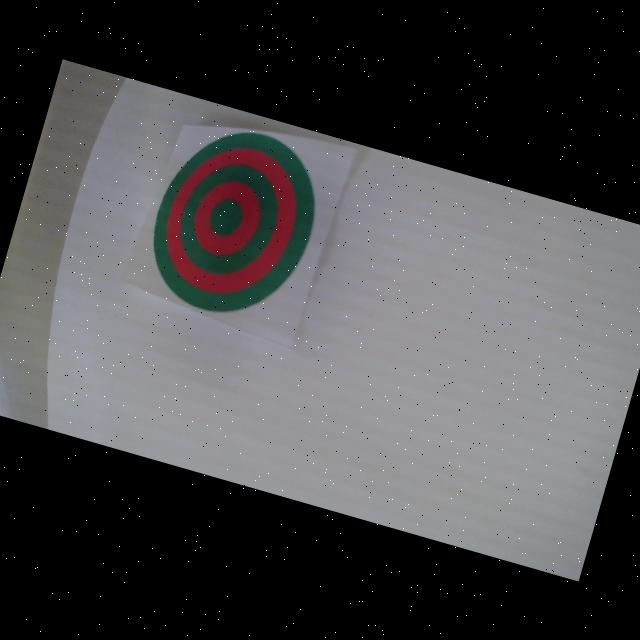COGNITIVE: (136, 111, 334, 332)
